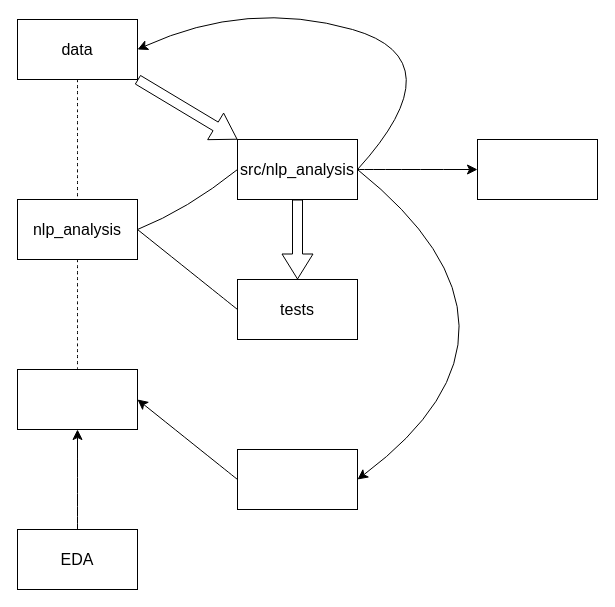
Some shapes in this 615 by 607 pixel diagram are drawn without their labels. The box of each missing label's shape, as (x1, y1, x2, y2) in pixels:
logs: (476, 138, 598, 200)
results: (236, 448, 358, 510)
website: (16, 368, 138, 430)
